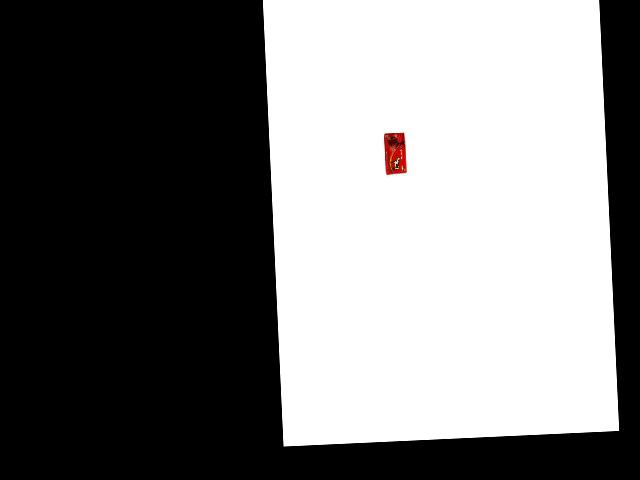chocolate: (381, 132, 406, 176)
